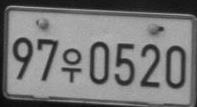0: (164, 44, 187, 89), (88, 40, 110, 85)
2: (139, 43, 161, 87)
5: (113, 42, 135, 86)
7: (36, 37, 59, 81)
9: (11, 36, 33, 80)
우: (60, 47, 82, 83)
